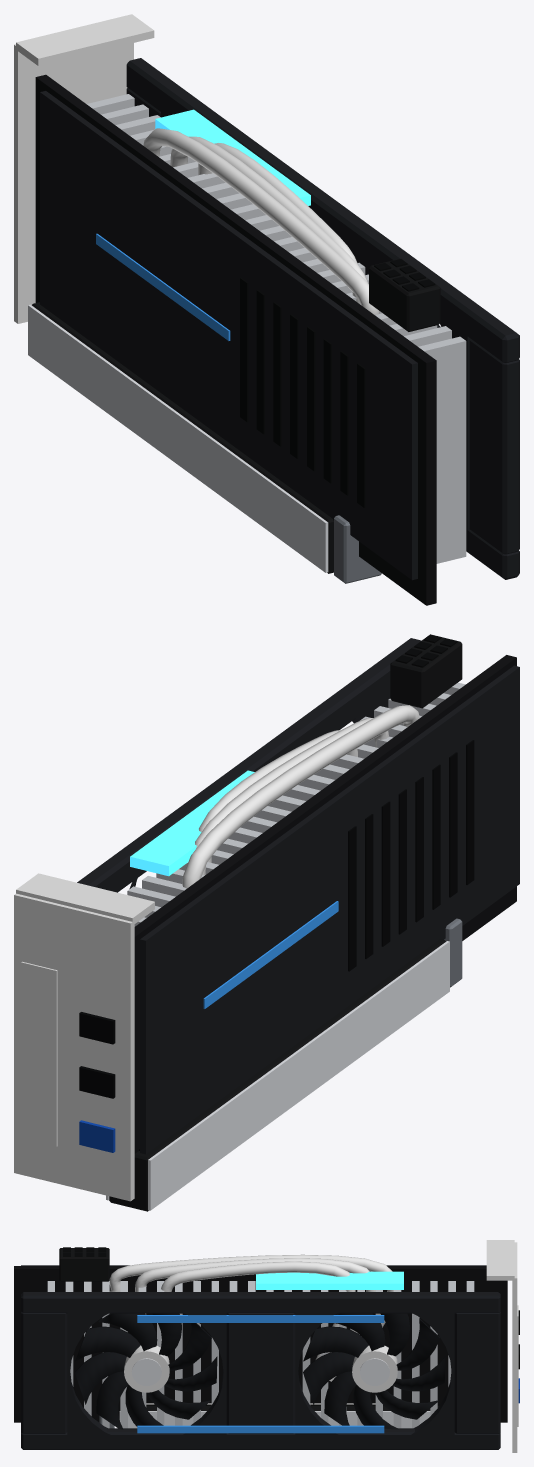
The model's file is hwm_gpu_rtx2060.glb.
The picture shows the model from 3 angles, top to bottom: view 1: azimuth 30°, elevation 25°; view 2: azimuth 150°, elevation 25°; view 3: azimuth 270°, elevation 25°; orthographic projection. The views are drawn at different scales.
Parts seen in each view (by area): view 1: Card_0, Slot_0; view 2: Card_0, Slot_0; view 3: Card_0, Rotor_X_1, Rotor_X_0, Slot_0.
Boxes of the visible parts, <box> form: Card_0: <box>14,14,519,605</box>; Slot_0: <box>28,302,381,583</box>; Card_0: <box>14,634,519,1201</box>; Slot_0: <box>106,918,462,1211</box>; Card_0: <box>14,1240,519,1452</box>; Rotor_X_1: <box>75,1313,217,1429</box>; Rotor_X_0: <box>303,1313,445,1429</box>; Slot_0: <box>99,1404,439,1428</box>.
Bounding box in the file's own units: 0.0376 × 0.0916 × 0.2152.
